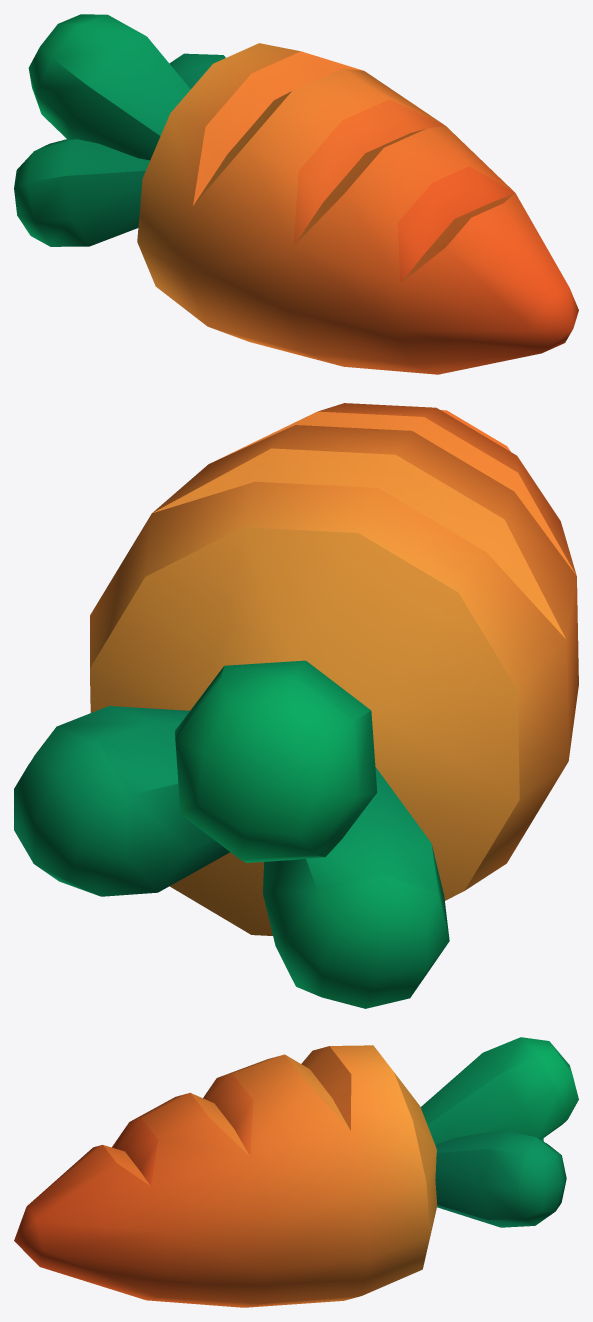
The model's file is carrot.fbx.
The picture shows the model from 3 angles, top to bottom: view 1: azimuth 30°, elevation 25°; view 2: azimuth 150°, elevation 25°; view 3: azimuth 270°, elevation 25°; orthographic projection. The views are drawn at different scales.
Visible parts, largest first — view 1: carrot; view 2: carrot; view 3: carrot.
Part boxes in pixels (left/top/right/bottom): carrot: left=14, top=14, right=578, bottom=374; carrot: left=14, top=403, right=578, bottom=1008; carrot: left=14, top=1037, right=578, bottom=1307.
Bounding box in the file's own units: 0.6653 × 0.538 × 1.2.
